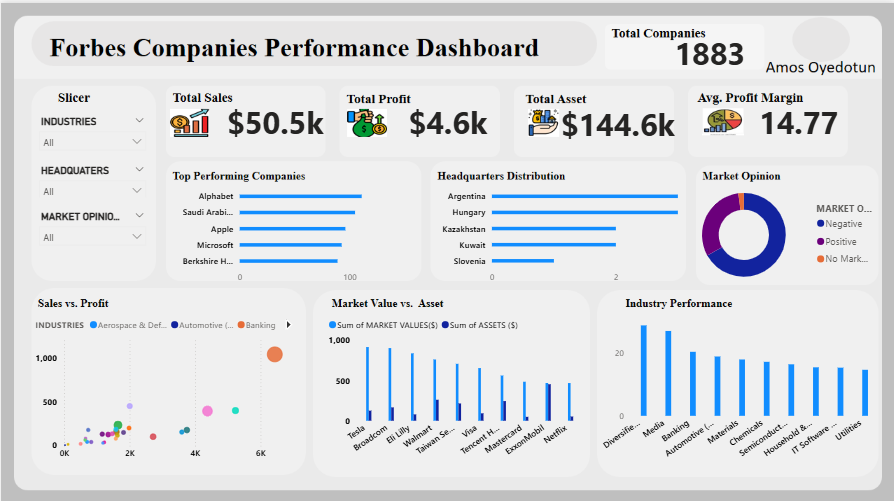

This screenshot's page, from the dashboard's own definition file:
{"tool":"powerbi","page":{"name":"Page 1","canvas":[1280,720],"ordinal":0},"visuals":[{"type":"card","fields":{"Values":["Forbes cleaned data.Formatted Total Sales"]},"box":[295.1,116.4,195.1,108.2],"z":0},{"type":"card","fields":{"Values":["Forbes cleaned data.Formatted Total Profit"]},"box":[563.9,116.4,150.8,108.2],"z":1000},{"type":"card","fields":{"Values":["Forbes cleaned data.Formated Total Asset"]},"box":[790,116.7,185,108.3],"z":2000},{"type":"card","fields":{"Values":["Forbes cleaned data.Average profit Margin"]},"box":[1050.8,116.4,178.7,108.2],"z":3000},{"type":"card","fields":{"Values":["Forbes cleaned data.Total Companies"]},"box":[921.3,45.9,185.2,50.8],"z":4000},{"type":"slicer","fields":{"Values":["Forbes cleaned data.INDUSTRIES"]},"box":[45.4,155.9,172.9,55.3],"z":5000},{"type":"slicer","fields":{"Values":["Forbes cleaned data.HEADQUATERS"]},"box":[45.4,225.4,172.9,52.4],"z":6000},{"type":"slicer","fields":{"Values":["Forbes cleaned data.Market opinion status"]},"box":[45.4,292,172.9,56.7],"z":7000},{"type":"clusteredBarChart","fields":{"Y":["Sum(Forbes cleaned data.PROFITS ($))"],"Category":["Forbes cleaned data.COMPANIES"]},"box":[240.9,250.9,351.5,158.7],"z":9000},{"type":"scatterChart","fields":{"X":["Sum(Forbes cleaned data.SALES($))"],"Y":["Sum(Forbes cleaned data.PROFITS ($))"],"Series":["Forbes cleaned data.INDUSTRIES"],"Size":["Sum(Forbes cleaned data.ASSETS ($))"]},"box":[45.4,440.1,386.4,221.7],"z":9001},{"type":"clusteredColumnChart","fields":{"Category":["Forbes cleaned data.COMPANIES"],"Y":["Sum(Forbes cleaned data.MARKET VALUES($))","Sum(Forbes cleaned data.ASSETS ($))"]},"box":[463.6,440.1,372.9,221.7],"z":9002},{"type":"donutChart","fields":{"Category":["Forbes cleaned data.MARKET OPINION STATUS"],"Y":["CountNonNull(Forbes cleaned data.COMPANIES)"]},"box":[954.1,252,305.7,159.6],"z":9003},{"type":"columnChart","fields":{"Category":["Forbes cleaned data.INDUSTRIES"],"Y":["Forbes cleaned data.Average profit Margin"]},"box":[851.7,440.1,408.2,221.7],"z":9004},{"type":"clusteredBarChart","fields":{"Category":["Forbes cleaned data.HEADQUATERS"],"Y":["CountNonNull(Forbes cleaned data.COMPANIES)"]},"box":[625,251.7,351.7,158.3],"z":9005}]}

Visuals, with their boxes in screenshot pixels (x1, y1, x2, y2), scaled from the page's 1280x720 canvas onto the 894x501 screenshot:
card - Forbes cleaned data.Formatted Total Sales: x1=206, y1=81, x2=342, y2=156
card - Forbes cleaned data.Formatted Total Profit: x1=394, y1=81, x2=499, y2=156
card - Forbes cleaned data.Formated Total Asset: x1=552, y1=81, x2=681, y2=157
card - Forbes cleaned data.Average profit Margin: x1=734, y1=81, x2=859, y2=156
card - Forbes cleaned data.Total Companies: x1=643, y1=32, x2=773, y2=67
slicer - Forbes cleaned data.INDUSTRIES: x1=32, y1=108, x2=152, y2=147
slicer - Forbes cleaned data.HEADQUATERS: x1=32, y1=157, x2=152, y2=193
slicer - Forbes cleaned data.Market opinion status: x1=32, y1=203, x2=152, y2=243
clusteredBarChart - Sum(Forbes cleaned data.PROFITS ($)) x Forbes cleaned data.COMPANIES: x1=168, y1=175, x2=414, y2=285
scatterChart - Sum(Forbes cleaned data.SALES($)) x Sum(Forbes cleaned data.PROFITS ($)): x1=32, y1=306, x2=302, y2=461
clusteredColumnChart - Forbes cleaned data.COMPANIES x Sum(Forbes cleaned data.MARKET VALUES($)): x1=324, y1=306, x2=584, y2=461
donutChart - Forbes cleaned data.MARKET OPINION STATUS x CountNonNull(Forbes cleaned data.COMPANIES): x1=666, y1=175, x2=880, y2=286
columnChart - Forbes cleaned data.INDUSTRIES x Forbes cleaned data.Average profit Margin: x1=595, y1=306, x2=880, y2=461
clusteredBarChart - Forbes cleaned data.HEADQUATERS x CountNonNull(Forbes cleaned data.COMPANIES): x1=437, y1=175, x2=682, y2=285
